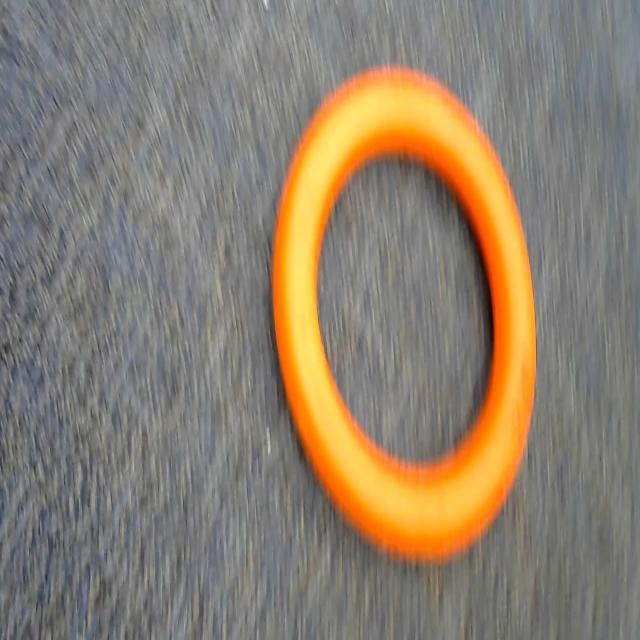note: (256, 41, 552, 559)
